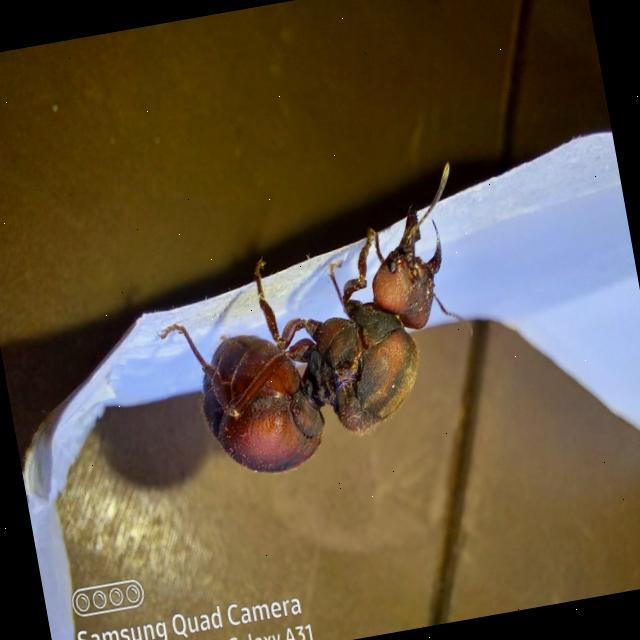Alive-Female-Dealate: (136, 161, 496, 488)
